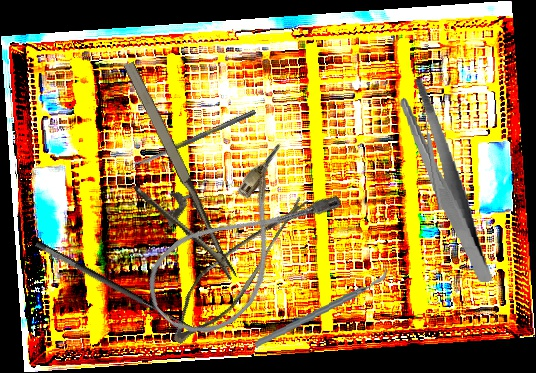Cannula: (130, 138, 349, 356)
Chopper: (250, 266, 393, 349)
Dressing Forceps: (397, 73, 494, 289)
Hook Surgical: (33, 227, 210, 339)
Micro Scissor: (163, 169, 311, 363)
Needle Holder: (86, 58, 238, 301)
Surgical Spoon: (129, 108, 257, 170), (420, 101, 444, 211)
